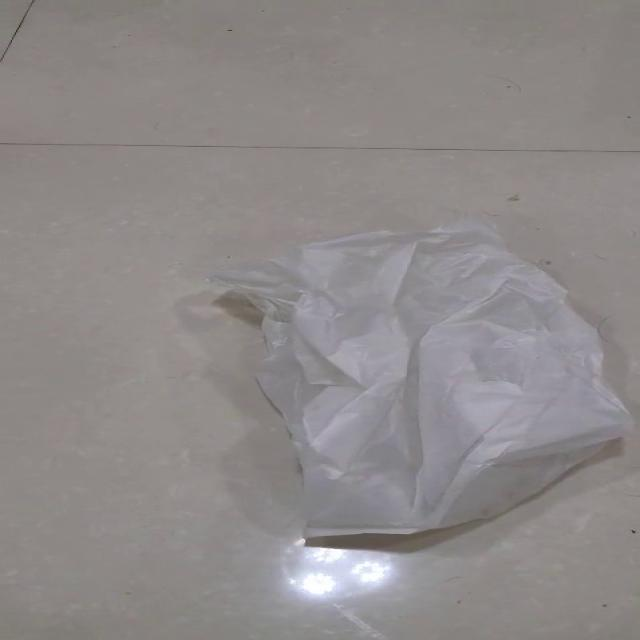plastic: (205, 214, 633, 541)
